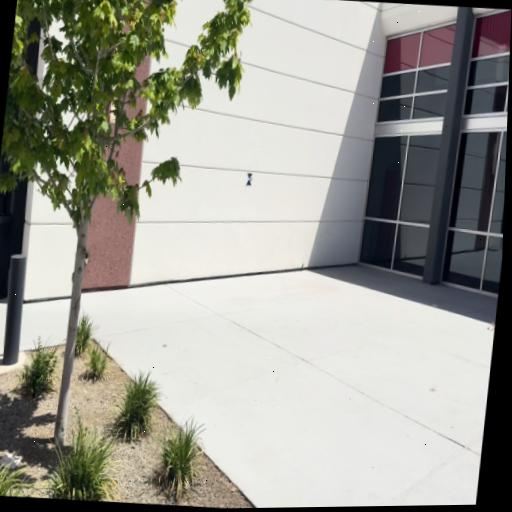target0: (246, 173, 253, 185)
